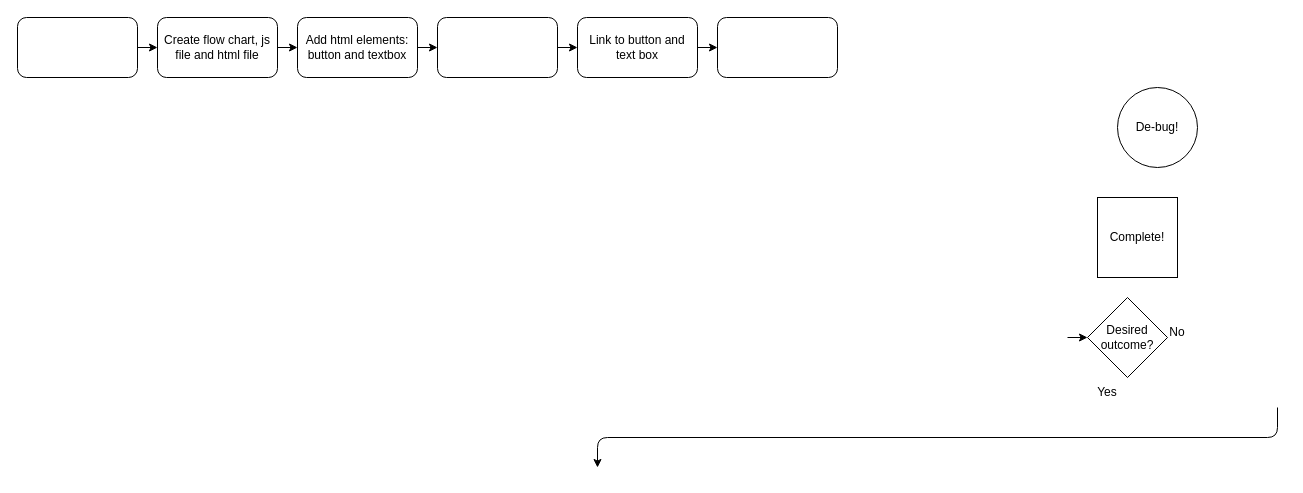
Image size: 1303x493. Some labels were removed from this diagram. Here are the shapes that lost their labels. From the top down, the centre of each, then its label:
At point 77,47: "MVP 1".
At point 497,47: "Fetch data from random useless facts API".
At point 777,47: "Display on live server".
